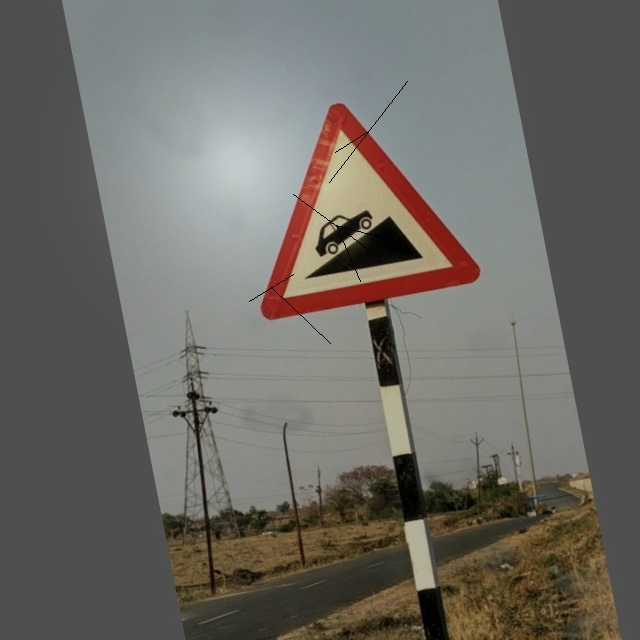Steep_Ascent: (229, 81, 477, 326)
